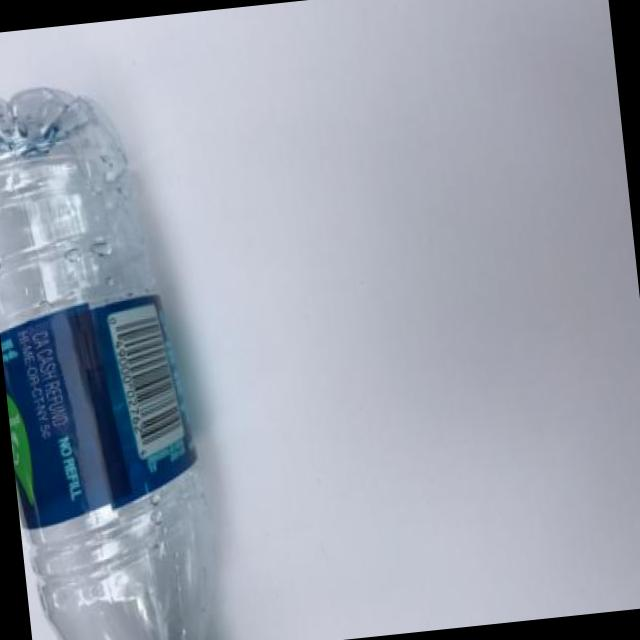Recycle: (0, 69, 219, 640)
